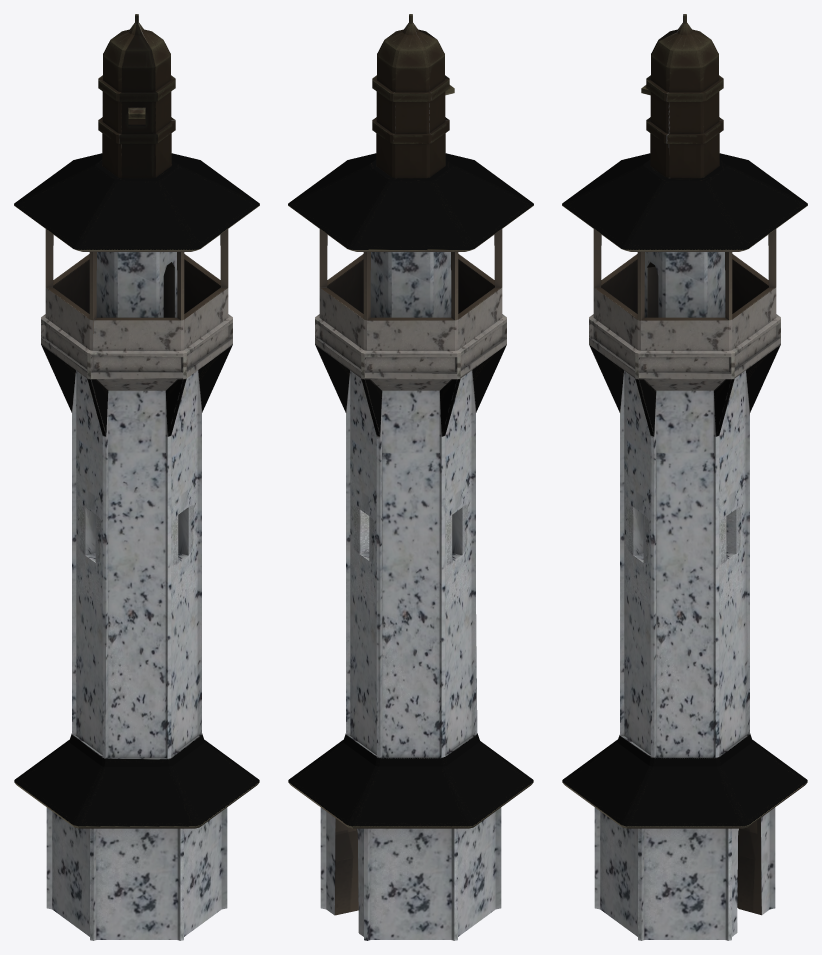
Rendered from export3dcoat.obj.
3 views of the same model, side by side, from view 1: azimuth 30°, elevation 25°; view 2: azimuth 150°, elevation 25°; view 3: azimuth 270°, elevation 25° (orthographic).
Parts seen in each view (by area): view 1: Minaret_Mesh; view 2: Minaret_Mesh; view 3: Minaret_Mesh.
Part boxes in pixels (bbox=[...]): Minaret_Mesh: bbox=[14, 14, 259, 940]; Minaret_Mesh: bbox=[288, 14, 533, 940]; Minaret_Mesh: bbox=[562, 14, 807, 940].
Size of the model in its own units: 408 by 1868 by 465.
